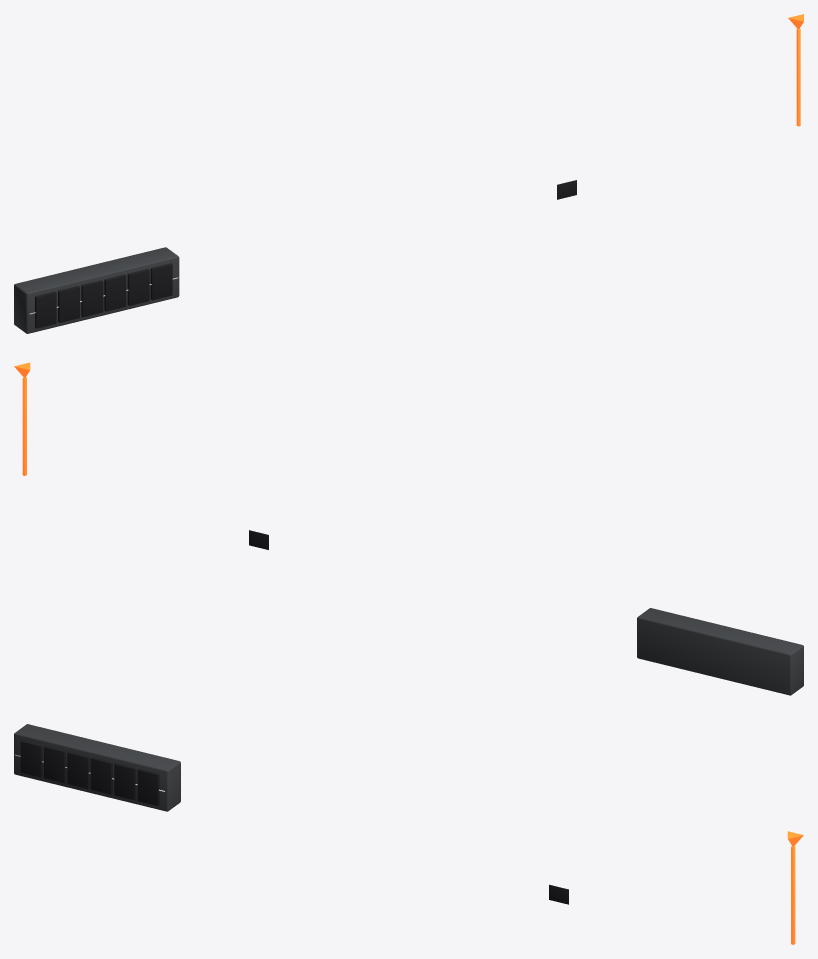
The picture shows the model from 3 angles, top to bottom: view 1: azimuth 30°, elevation 25°; view 2: azimuth 150°, elevation 25°; view 3: azimuth 330°, elevation 25°; orthographic projection.
Visible parts, largest first — view 1: housing, window_3, window_4, window_2, window_5, window_1, window_0; view 2: housing; view 3: housing, window_0, window_3, window_2, window_4, window_5, window_1, playhead_mast.
Boxes of the visible parts, x1,y1,x2,y2 form: housing: (14, 247, 179, 333); window_3: (104, 274, 126, 311); window_4: (127, 269, 149, 305); window_2: (81, 280, 103, 316); window_5: (150, 263, 172, 300); window_1: (58, 286, 79, 322); window_0: (35, 291, 56, 328); housing: (637, 608, 803, 695); housing: (14, 724, 180, 811); window_0: (20, 740, 42, 777); window_3: (90, 757, 112, 794); window_2: (67, 751, 89, 788); window_4: (114, 763, 136, 800); window_5: (137, 768, 159, 805); window_1: (44, 746, 65, 783); playhead_mast: (791, 846, 795, 944).
Bounding box in the file's own units: 33.65 × 5.3 × 1.4.
